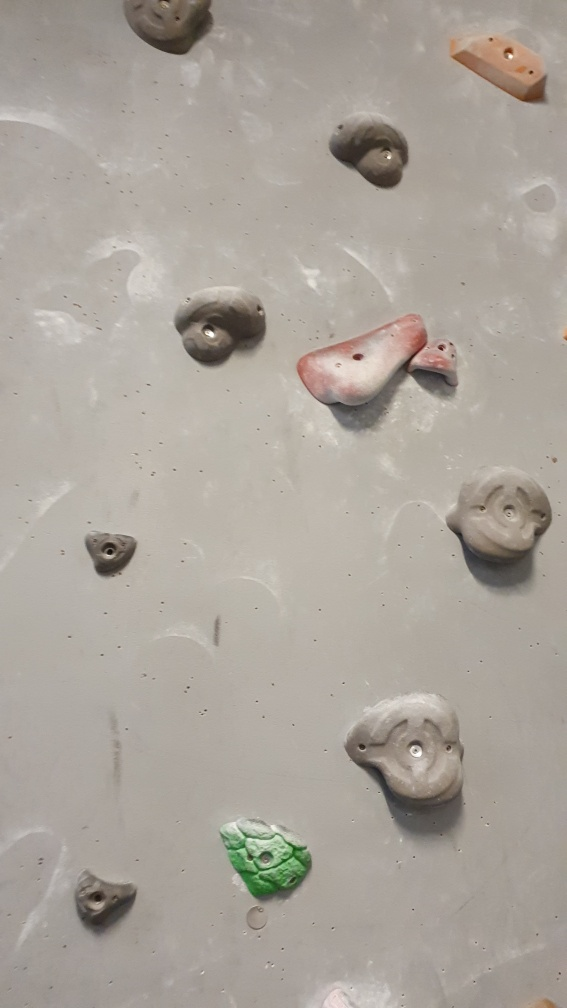Crimp: (86, 528, 141, 580)
Hand Start: (241, 902, 275, 935)
Jug: (341, 688, 471, 818), (442, 463, 555, 573), (175, 284, 271, 370), (328, 109, 412, 192)
Pinch: (450, 32, 550, 107)
